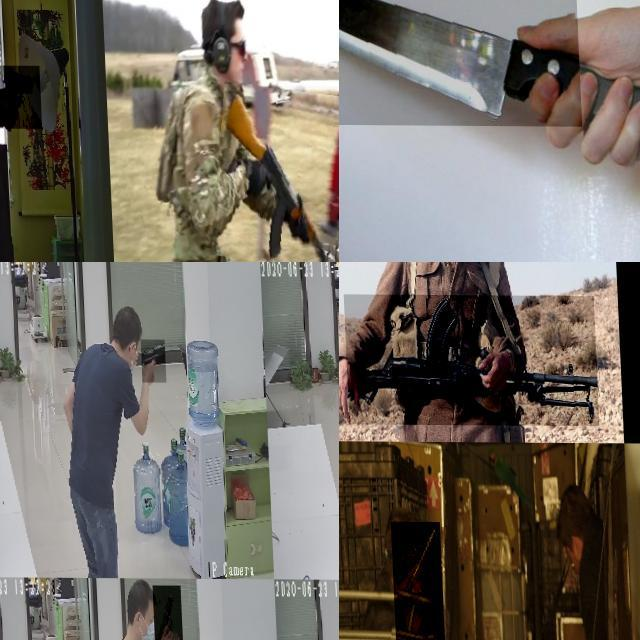-: (339, 0, 578, 126)
gun-knife-thesis - v11 Yolov5 augmented: (342, 294, 597, 426), (206, 84, 339, 262), (386, 521, 440, 640), (0, 65, 40, 128), (149, 585, 179, 640), (140, 339, 166, 382)
